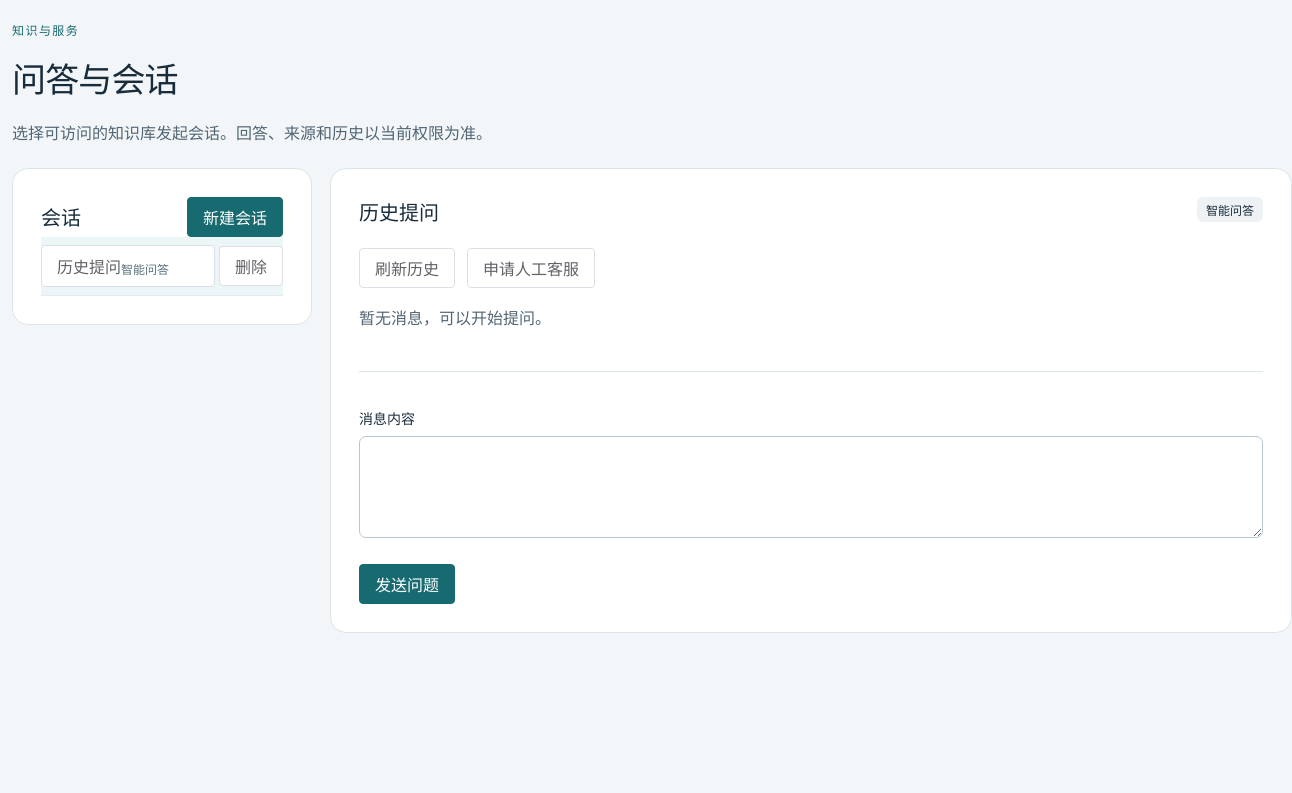
Test: loads an older message page only once when its button is clicked twice quickly
Step 1. Click the button "刷新历史" → (407, 268), box [359,248,455,288]
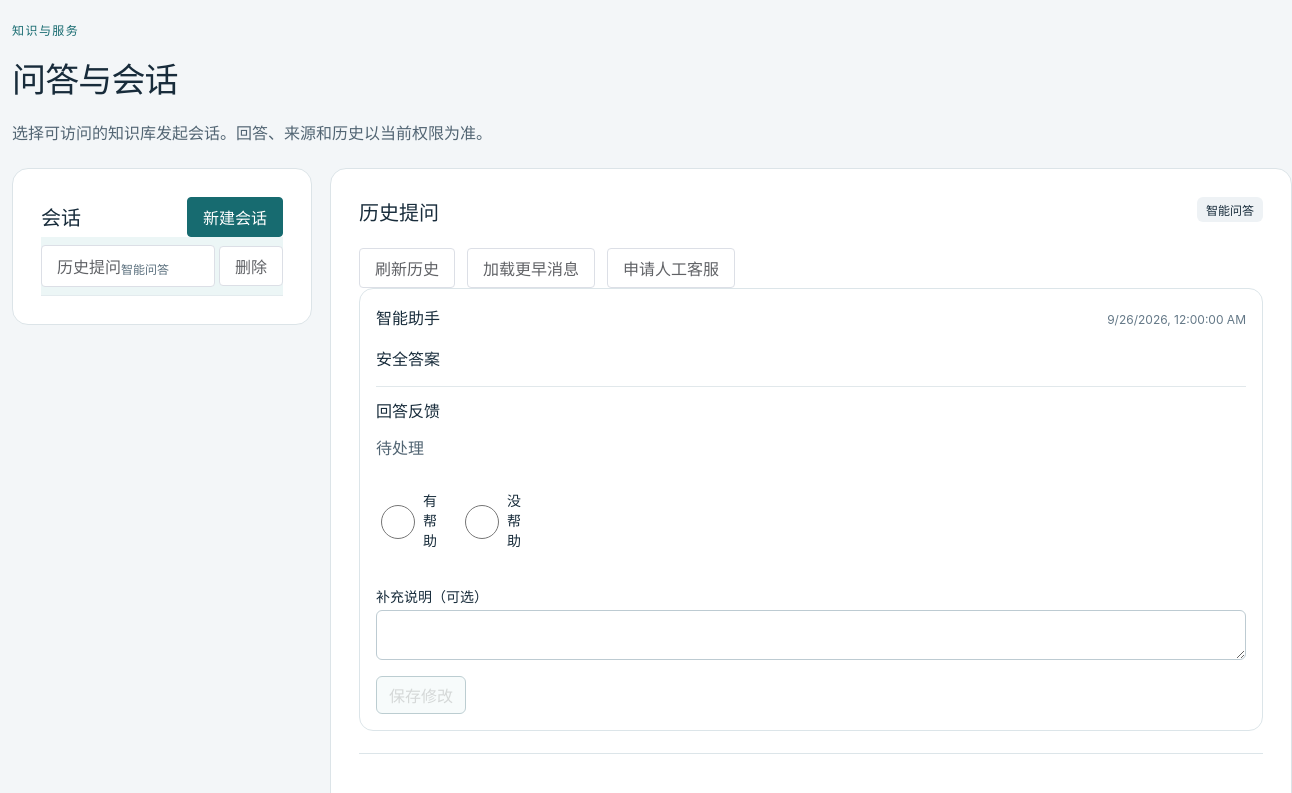
Step 2. Click the button "加载更早消息" → (531, 268), box [467,248,595,288]
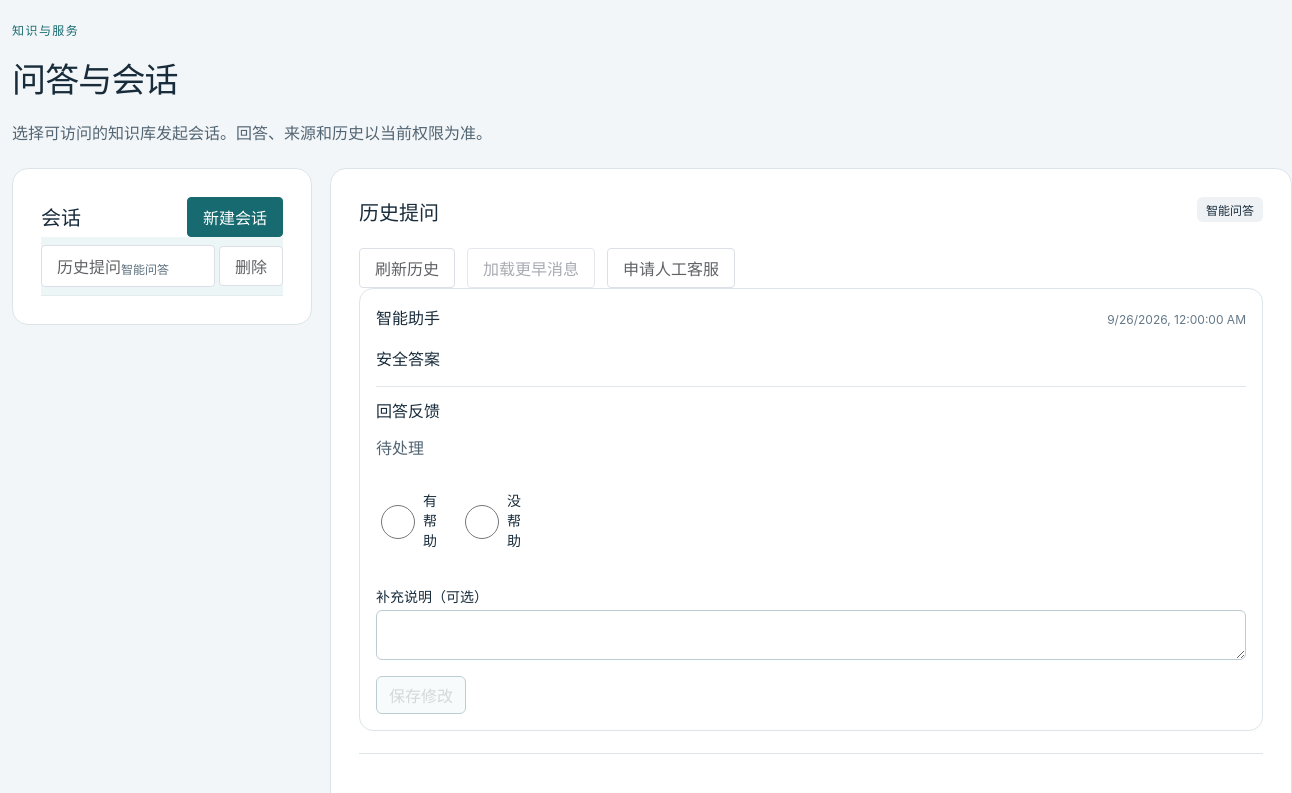
Step 3. Click the button "加载更早消息" → (531, 268), box [467,248,595,288]
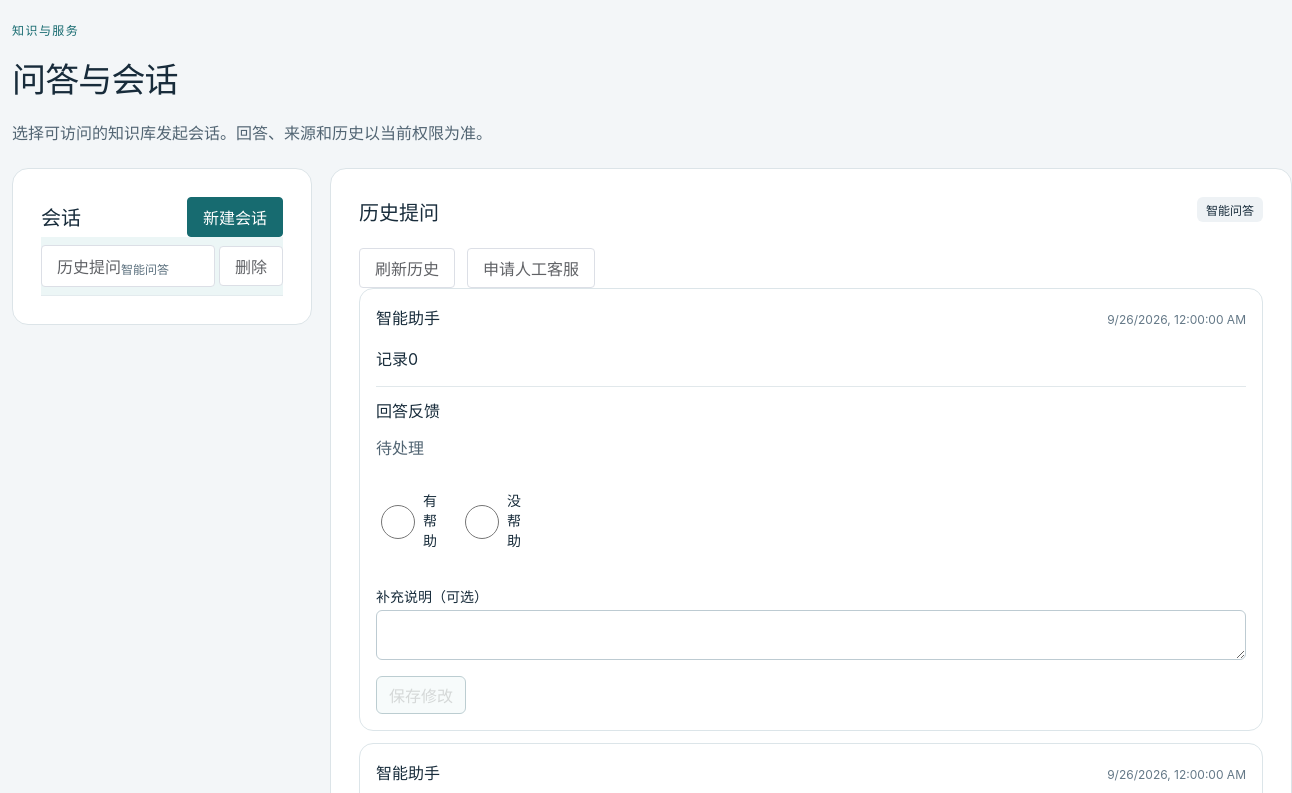
Expected: the number of elements with class "message" is 51
